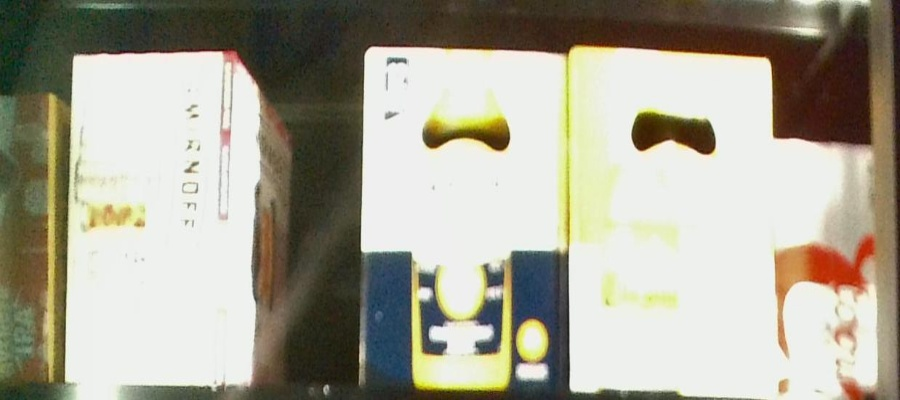bottle: (362, 42, 569, 397), (571, 45, 776, 400), (68, 51, 287, 382), (774, 137, 877, 397), (1, 98, 65, 390)
